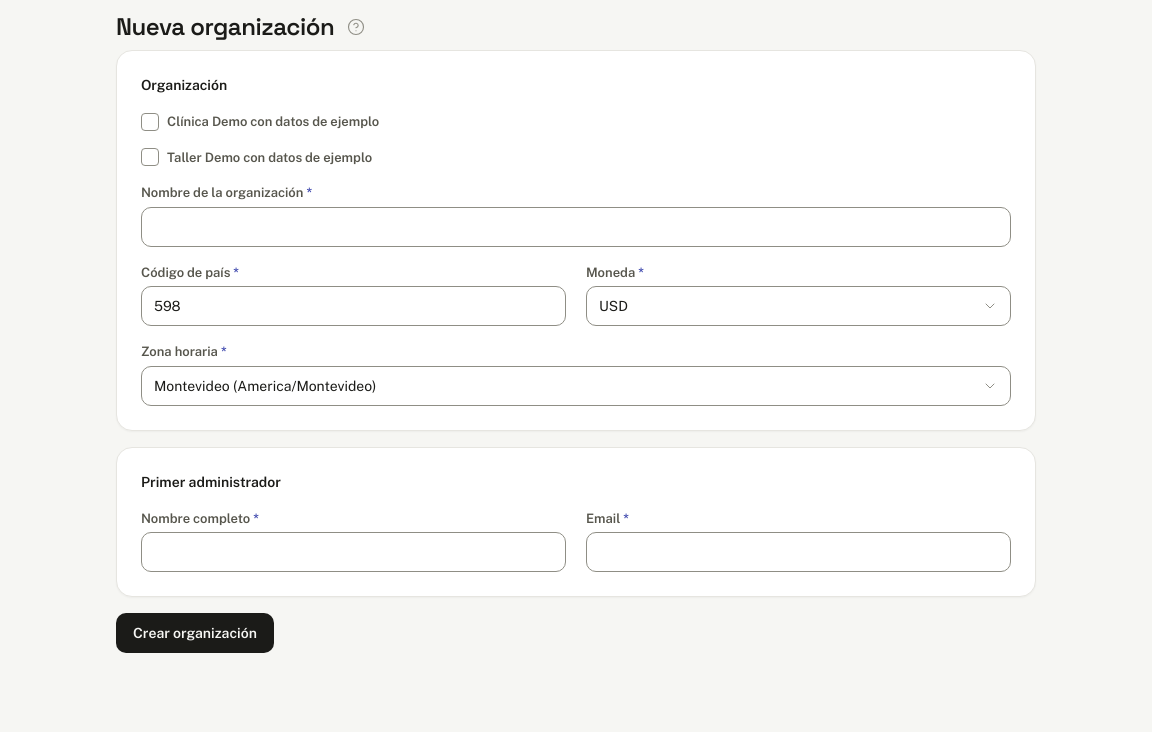
Test: NewOrganizationPage › submit: POST /api/admin/organizations con los tres campos, y al confirmar muestra nombre, slug y a quién se invitó — sin redirect
Step 1. Type "Automotora Pérez" into the field labelled "Nombre de la organización" → x=576, y=226, box 141,206 -> 1011,246
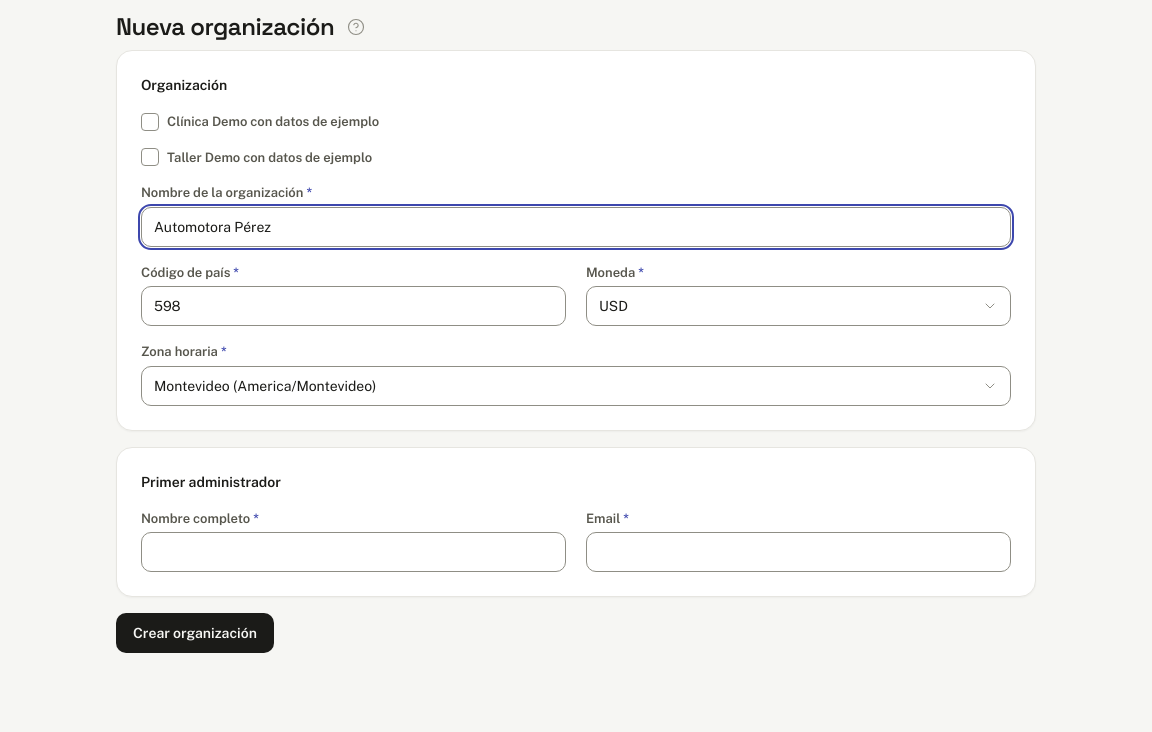
Step 2. Type "Juan Pérez" into the field labelled "Nombre completo" → x=354, y=552, box 141,532 -> 566,572
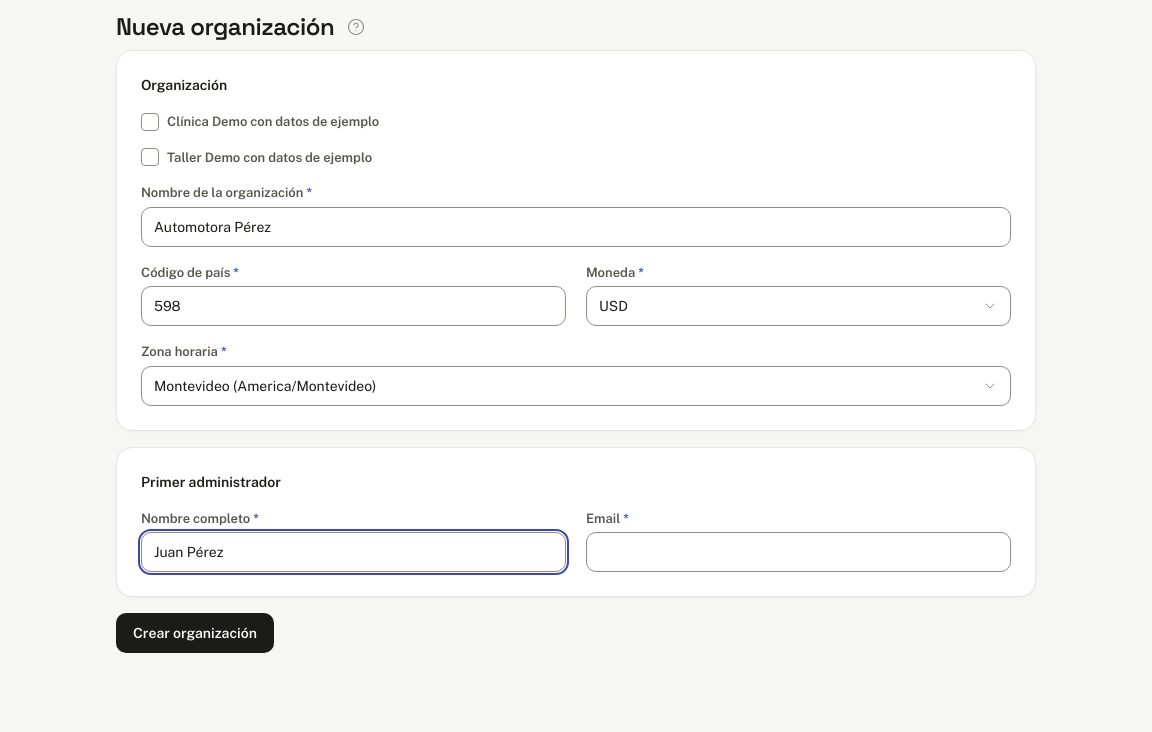
Step 3. Type "juan@perez.test" into the field labelled "Email" → x=798, y=552, box 586,532 -> 1011,572
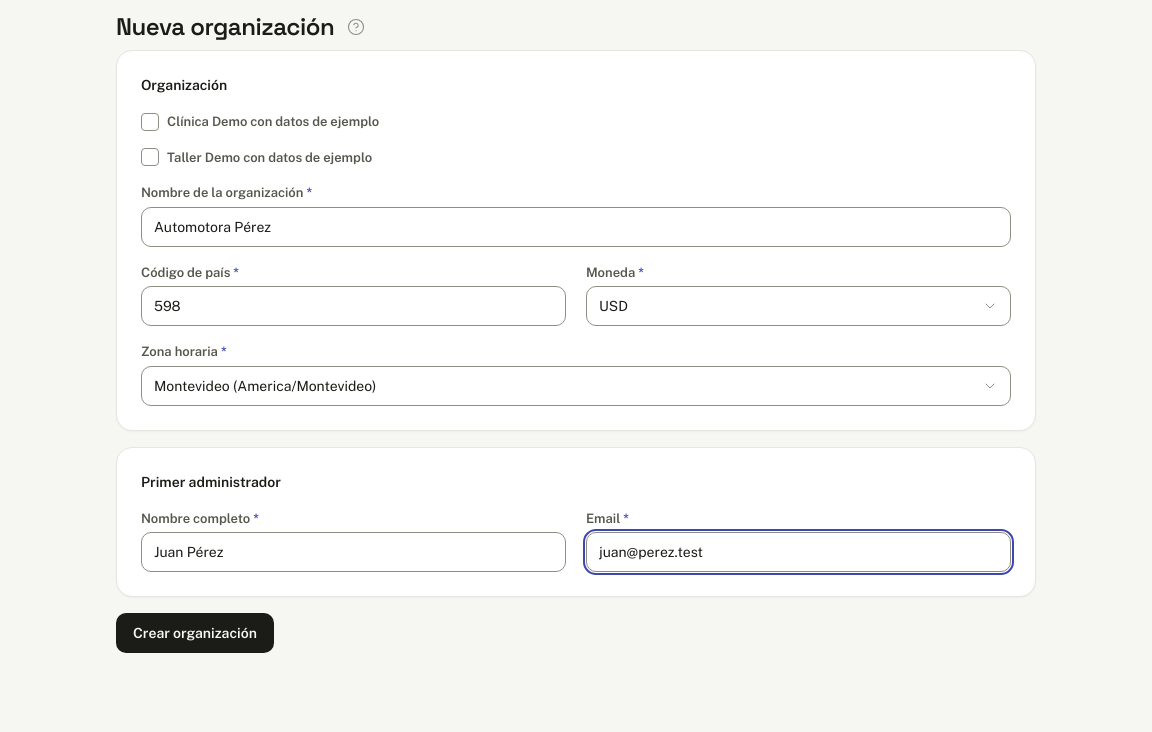
Step 4. Click the button "Crear organización" → x=195, y=633, box 116,613 -> 274,653
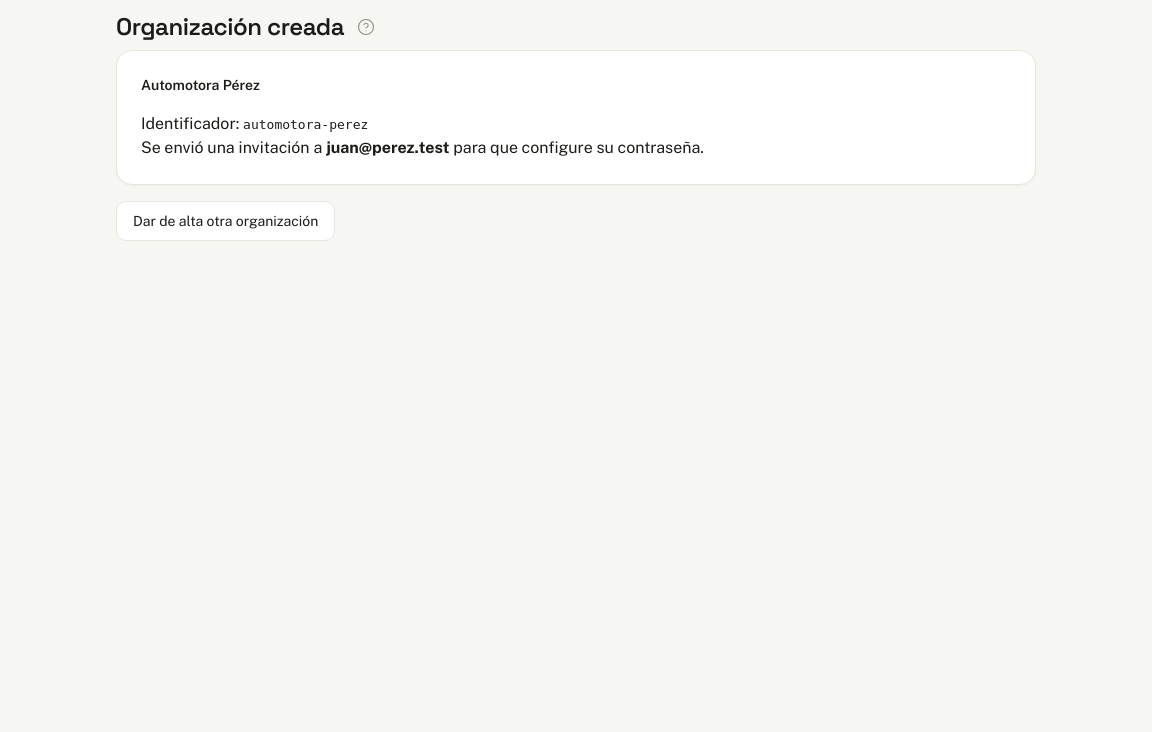
Check: the heading "Organización creada" is shown, box 116,12 -> 344,42
Check: the heading "Automotora Pérez" is shown, box 141,75 -> 260,96
Check: the text "automotora-perez" is shown, box 243,117 -> 368,132
